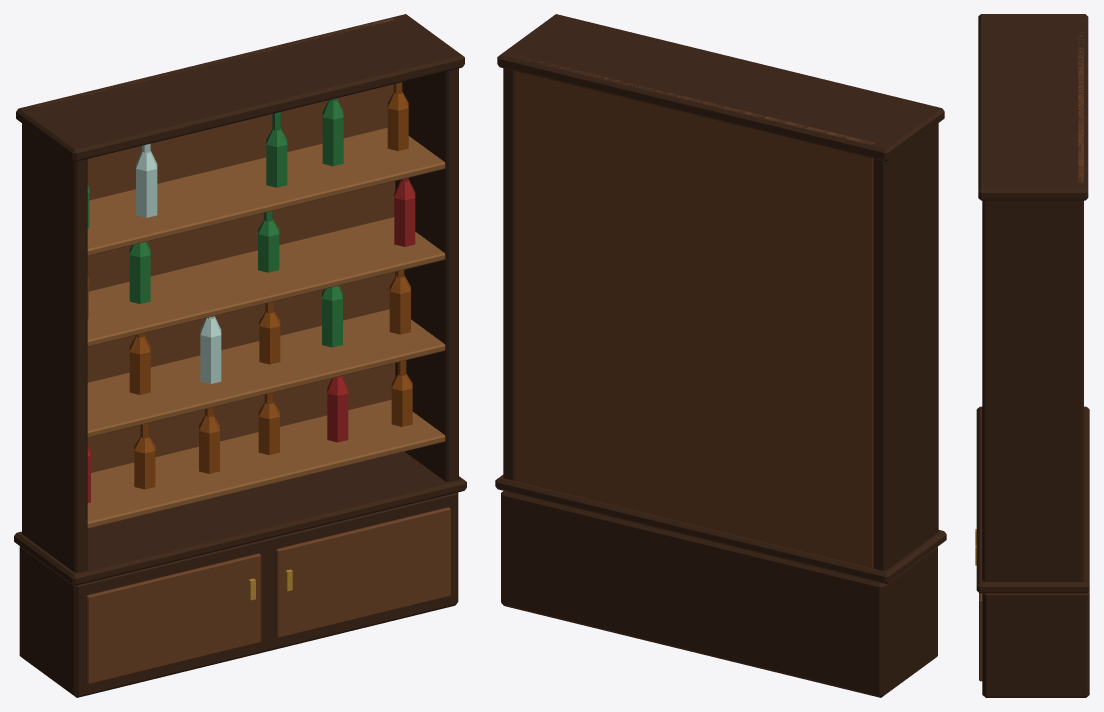
Rendered from bar_shelf.glb.
3 views of the same model, side by side, from view 1: azimuth 30°, elevation 25°; view 2: azimuth 150°, elevation 25°; view 3: azimuth 270°, elevation 25° (orthographic). The views are drawn at different scales.
Parts seen in each view (by area): view 1: bar_shelf; view 2: bar_shelf; view 3: bar_shelf.
Boxes of the visible parts, x1,y1,x2,y2 form: bar_shelf: [14, 14, 466, 697]; bar_shelf: [495, 14, 946, 697]; bar_shelf: [975, 14, 1089, 697].
Size of the model in its own units: 1.5 by 2 by 0.405.
